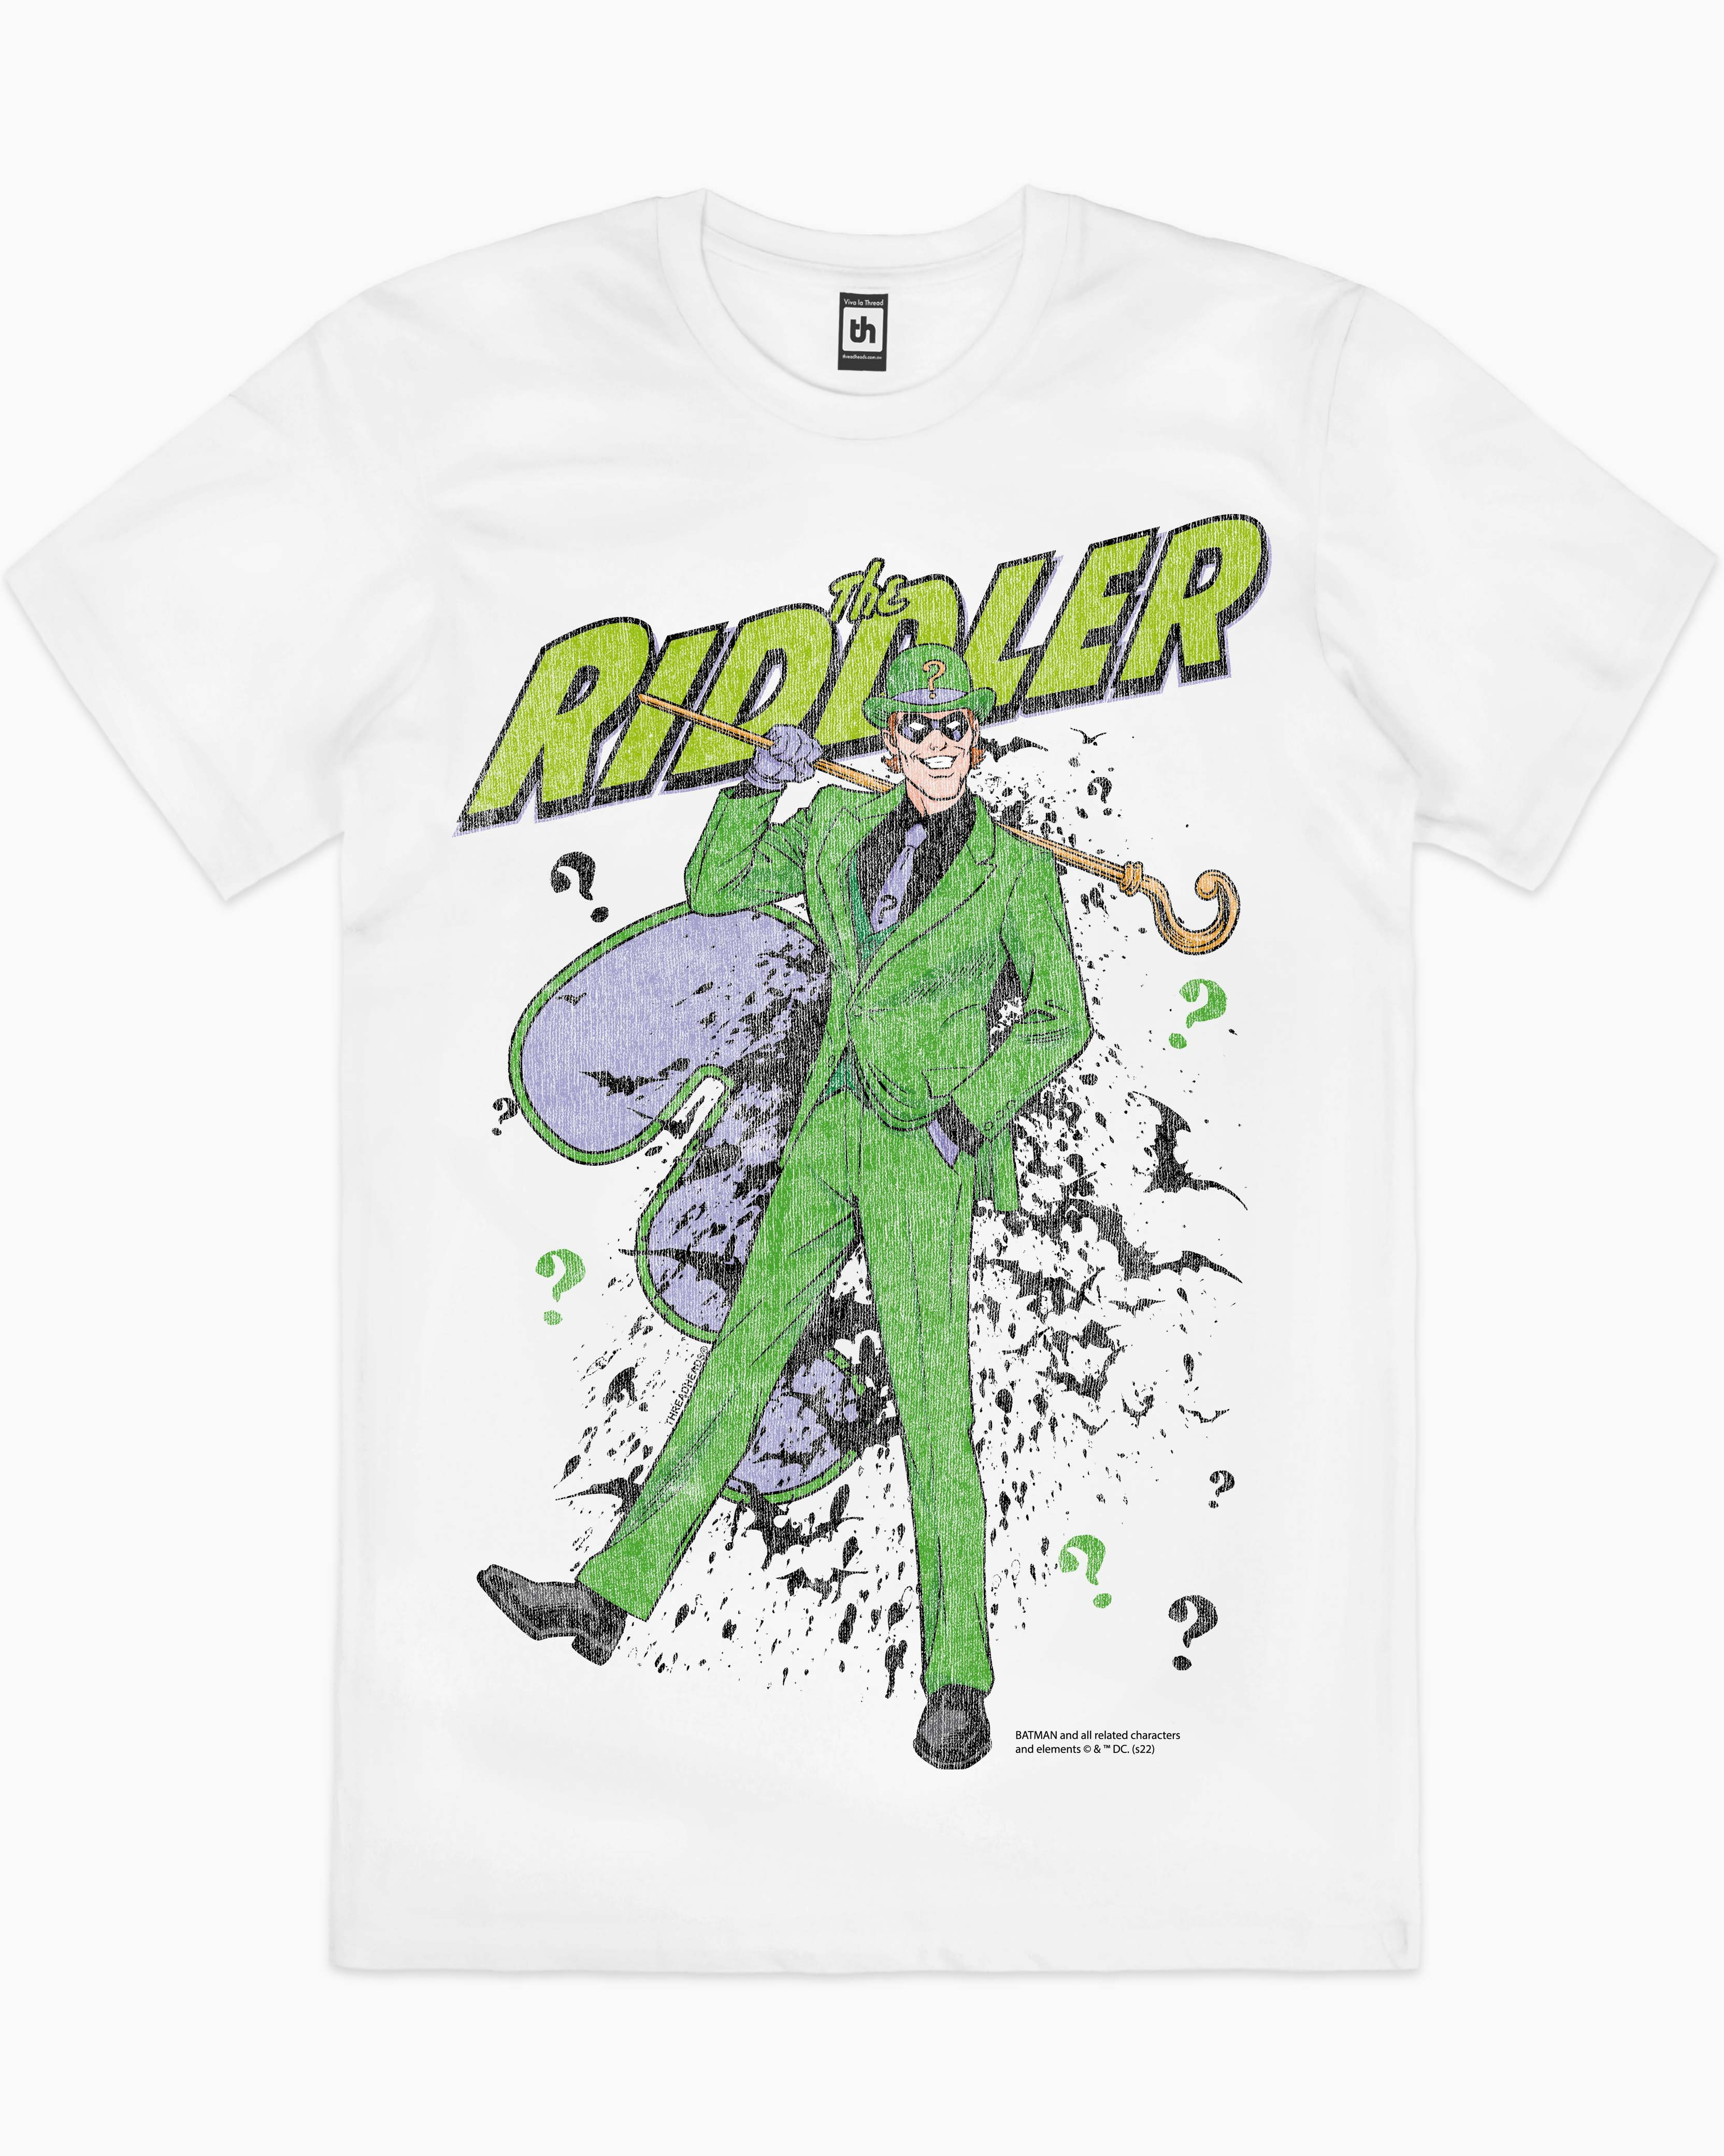design: (445, 503, 1277, 1776)
